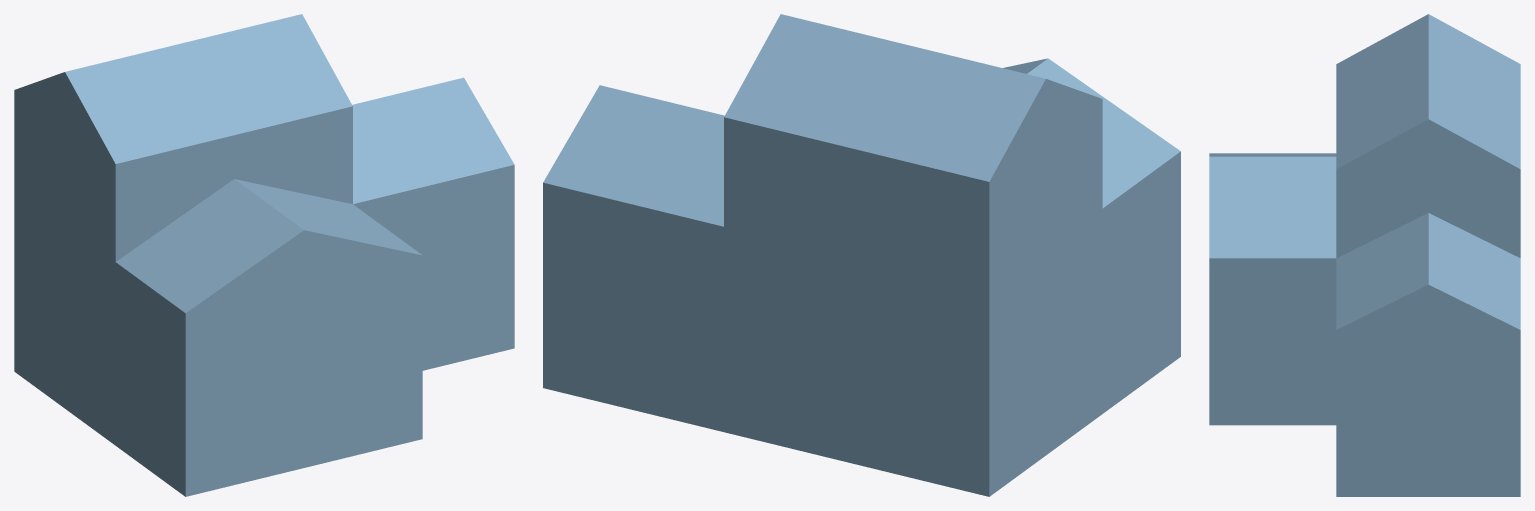
File: HouseXX.fbx
3 renders of one model, left to right at view 1: azimuth 30°, elevation 25°; view 2: azimuth 150°, elevation 25°; view 3: azimuth 270°, elevation 25°, orthographic. The views are drawn at different scales.
Parts seen in each view (by area): view 1: Cube; view 2: Cube; view 3: Cube.
Part boxes in pixels (x1=…): Cube: x1=14, y1=14, x2=514, y2=496; Cube: x1=543, y1=14, x2=1180, y2=496; Cube: x1=1209, y1=14, x2=1520, y2=496.
Size of the model in its own units: 4.55 by 3.67 by 3.38.
